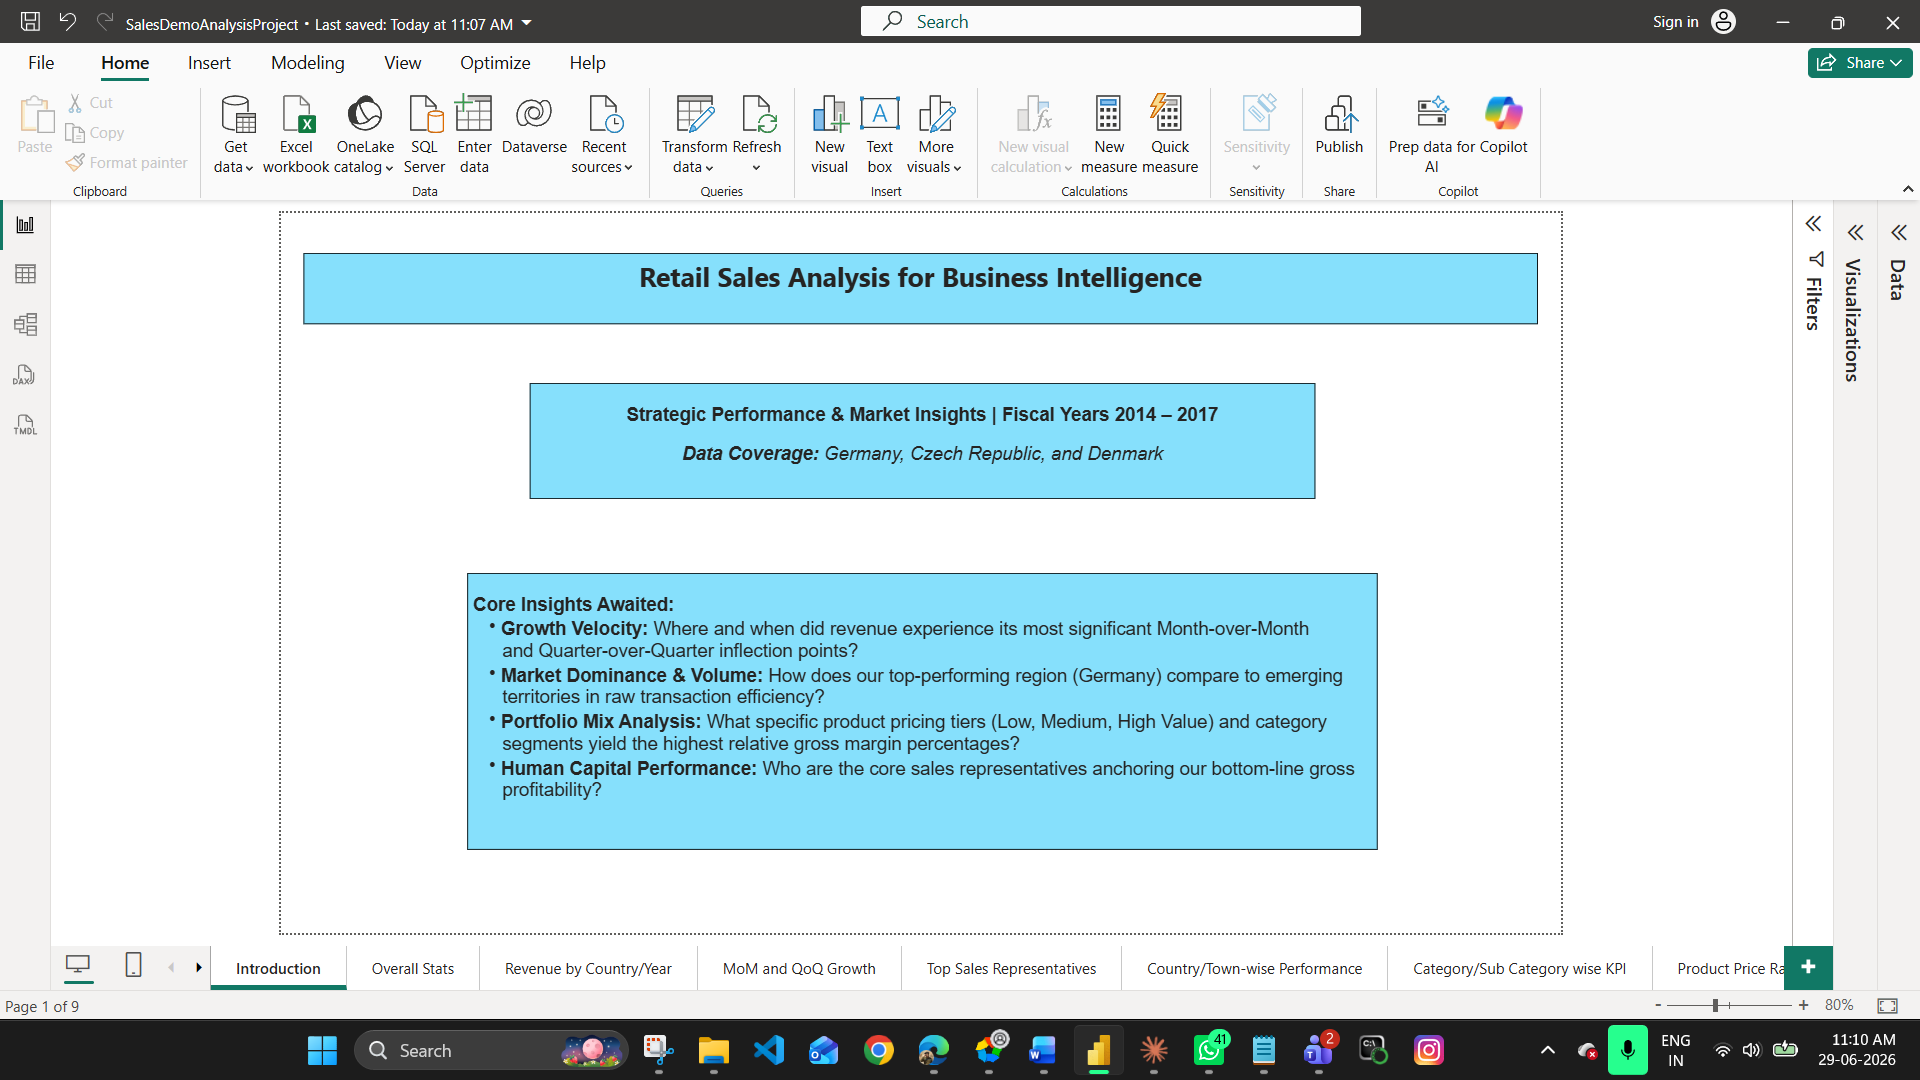

The page's visual inventory and layout, read from the dashboard file:
{"tool":"powerbi","page":{"name":"Introduction","canvas":[1280,720],"ordinal":0},"visuals":[{"type":"textbox","box":[22.9,40,1234.3,71.4],"z":0},{"type":"textbox","box":[227.1,191.4,827.1,115.7],"z":1000},{"type":"textbox","box":[185.7,360,910,277.1],"z":2000}]}

Visuals, with their boxes on the page's 1280x720 design canvas (x1, y1, x2, y2). These are canvas units, not pixel positions in the 1920x1080 screenshot, which may show the page scaled, cropped or inside an application window:
textbox: bbox=[23, 40, 1257, 111]
textbox: bbox=[227, 191, 1054, 307]
textbox: bbox=[186, 360, 1096, 637]
